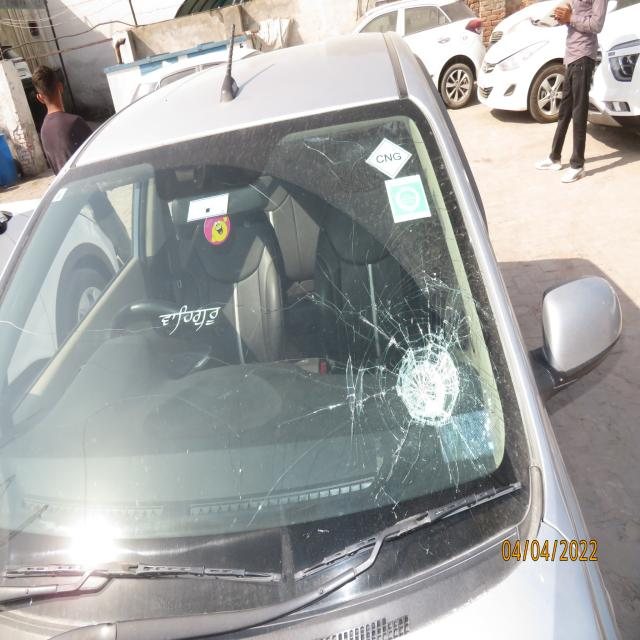damage: (312, 291, 494, 482)
